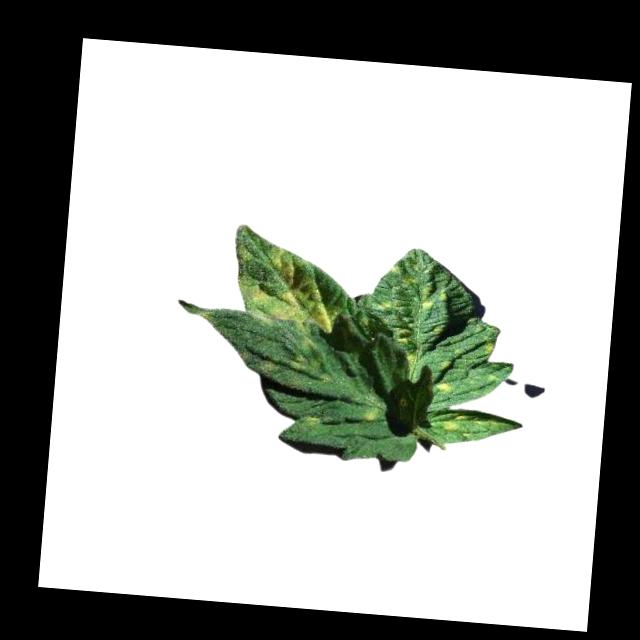Leaf_Mold: (233, 242, 342, 335), (373, 258, 455, 369), (258, 330, 337, 381), (441, 409, 472, 437), (364, 399, 377, 423), (437, 379, 456, 394)
